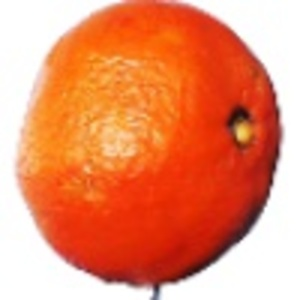tangerina: (12, 1, 286, 300)
